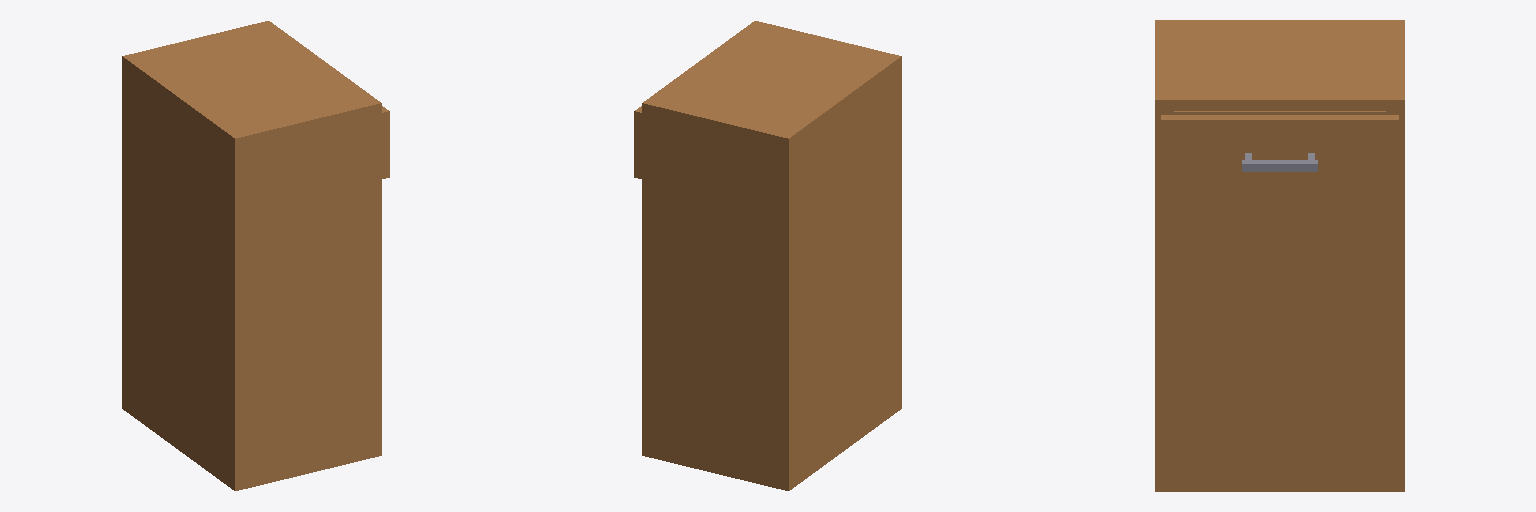
URDF robot description (cabinet):
<?xml version="1.0"?>
<!--
  A one-drawer cabinet for the drawer open/close example (#161).

  Frame: the front faces +x, the bottom sits at z = 0. The drawer is near
  the top, its handle at z = 0.6, where a Panda reaches it with its hand
  pointing forward (lower, the wrist joint 6 runs into its limit). The
  carcass is hollow plates (back, sides, top, a solid lower block) so the drawer
  slides through the opening without touching them; the drawer's front
  panel stands 2 mm proud of the carcass when closed. Its joint "drawer"
  slides along +x, out of the front, from 0 (closed) to 0.2 m. The handle
  is a horizontal bar 3.5 cm off the front panel on two standoffs: room
  for the Panda's fingertips to close around it from above and below.
-->
<robot name="cabinet">
  <material name="wood"><color rgba="0.72 0.53 0.34 1"/></material>
  <material name="steel"><color rgba="0.6 0.6 0.65 1"/></material>

  <link name="base_link">
    <!-- back -->
    <visual><origin xyz="-0.14 0 0.345"/><geometry><box size="0.02 0.4 0.69"/></geometry><material name="wood"/></visual>
    <collision><origin xyz="-0.14 0 0.345"/><geometry><box size="0.02 0.4 0.69"/></geometry></collision>
    <!-- sides -->
    <visual><origin xyz="0 0.19 0.345"/><geometry><box size="0.3 0.02 0.69"/></geometry><material name="wood"/></visual>
    <collision><origin xyz="0 0.19 0.345"/><geometry><box size="0.3 0.02 0.69"/></geometry></collision>
    <visual><origin xyz="0 -0.19 0.345"/><geometry><box size="0.3 0.02 0.69"/></geometry><material name="wood"/></visual>
    <collision><origin xyz="0 -0.19 0.345"/><geometry><box size="0.3 0.02 0.69"/></geometry></collision>
    <!-- top -->
    <visual><origin xyz="0 0 0.68"/><geometry><box size="0.3 0.36 0.02"/></geometry><material name="wood"/></visual>
    <collision><origin xyz="0 0 0.68"/><geometry><box size="0.3 0.36 0.02"/></geometry></collision>
    <!-- lower block, whose top is the drawer cavity's floor -->
    <visual><origin xyz="0 0 0.265"/><geometry><box size="0.3 0.36 0.53"/></geometry><material name="wood"/></visual>
    <collision><origin xyz="0 0 0.265"/><geometry><box size="0.3 0.36 0.53"/></geometry></collision>
  </link>

  <link name="drawer_link">
    <inertial><mass value="1.0"/><inertia ixx="0.01" ixy="0" ixz="0" iyy="0.01" iyz="0" izz="0.01"/></inertial>
    <!-- tray, 1 cm clear of the cavity on every side -->
    <visual><origin xyz="0.005 0 0.6"/><geometry><box size="0.25 0.34 0.12"/></geometry><material name="wood"/></visual>
    <collision><origin xyz="0.005 0 0.6"/><geometry><box size="0.25 0.34 0.12"/></geometry></collision>
    <!-- front panel -->
    <visual><origin xyz="0.162 0 0.6"/><geometry><box size="0.02 0.38 0.13"/></geometry><material name="wood"/></visual>
    <collision><origin xyz="0.162 0 0.6"/><geometry><box size="0.02 0.38 0.13"/></geometry></collision>
    <!-- handle bar and its standoffs -->
    <visual><origin xyz="0.207 0 0.6"/><geometry><box size="0.015 0.12 0.015"/></geometry><material name="steel"/></visual>
    <collision><origin xyz="0.207 0 0.6"/><geometry><box size="0.015 0.12 0.015"/></geometry></collision>
    <visual><origin xyz="0.186 0.05 0.6"/><geometry><box size="0.028 0.012 0.012"/></geometry><material name="steel"/></visual>
    <collision><origin xyz="0.186 0.05 0.6"/><geometry><box size="0.028 0.012 0.012"/></geometry></collision>
    <visual><origin xyz="0.186 -0.05 0.6"/><geometry><box size="0.028 0.012 0.012"/></geometry><material name="steel"/></visual>
    <collision><origin xyz="0.186 -0.05 0.6"/><geometry><box size="0.028 0.012 0.012"/></geometry></collision>
  </link>

  <joint name="drawer" type="prismatic">
    <parent link="base_link"/>
    <child link="drawer_link"/>
    <origin xyz="0 0 0"/>
    <axis xyz="1 0 0"/>
    <limit lower="0" upper="0.2" effort="100" velocity="0.5"/>
  </joint>
</robot>

--- Render facts (derived) ---
3 views of the same robot in one strip: view 1: azimuth 30°, elevation 25°; view 2: azimuth 150°, elevation 25°; view 3: azimuth 270°, elevation 25° (orthographic).
Model cabinet with 2 links and 1 joints (1 prismatic), rooted at base_link, posed every joint at zero.
Links seen in each view (by area): view 1: base_link, drawer_link; view 2: base_link, drawer_link; view 3: base_link, drawer_link.
Link boxes in pixels (<box>): base_link: <box>122,21,381,490</box>; drawer_link: <box>382,106,389,178</box>; base_link: <box>642,21,901,490</box>; drawer_link: <box>634,106,641,178</box>; base_link: <box>1155,20,1404,491</box>; drawer_link: <box>1161,111,1398,193</box>.
Size in the robot's own frame: 0.3645 by 0.4 by 0.69 metres.
Geometry: primitives only (box / cylinder / sphere), no mesh files.
